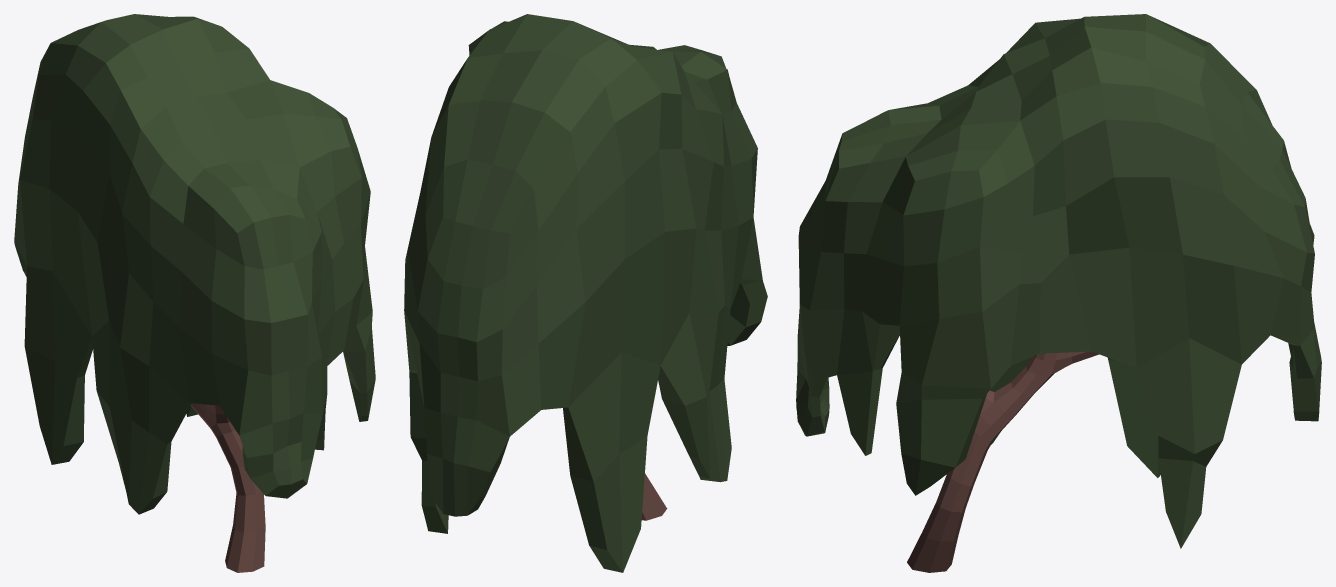
Rendered from Willow_1.gltf.
3 views of the same model, side by side, from view 1: azimuth 30°, elevation 25°; view 2: azimuth 150°, elevation 25°; view 3: azimuth 270°, elevation 25° (orthographic). The views are drawn at different scales.
Parts seen in each view (by area): view 1: Willow_1; view 2: Willow_1; view 3: Willow_1.
Part boxes in pixels (bbox=[...]): Willow_1: bbox=[14, 14, 375, 572]; Willow_1: bbox=[404, 14, 767, 572]; Willow_1: bbox=[796, 14, 1321, 572].
Bounding box in the file's own units: 1.45 × 2.85 × 2.55.
